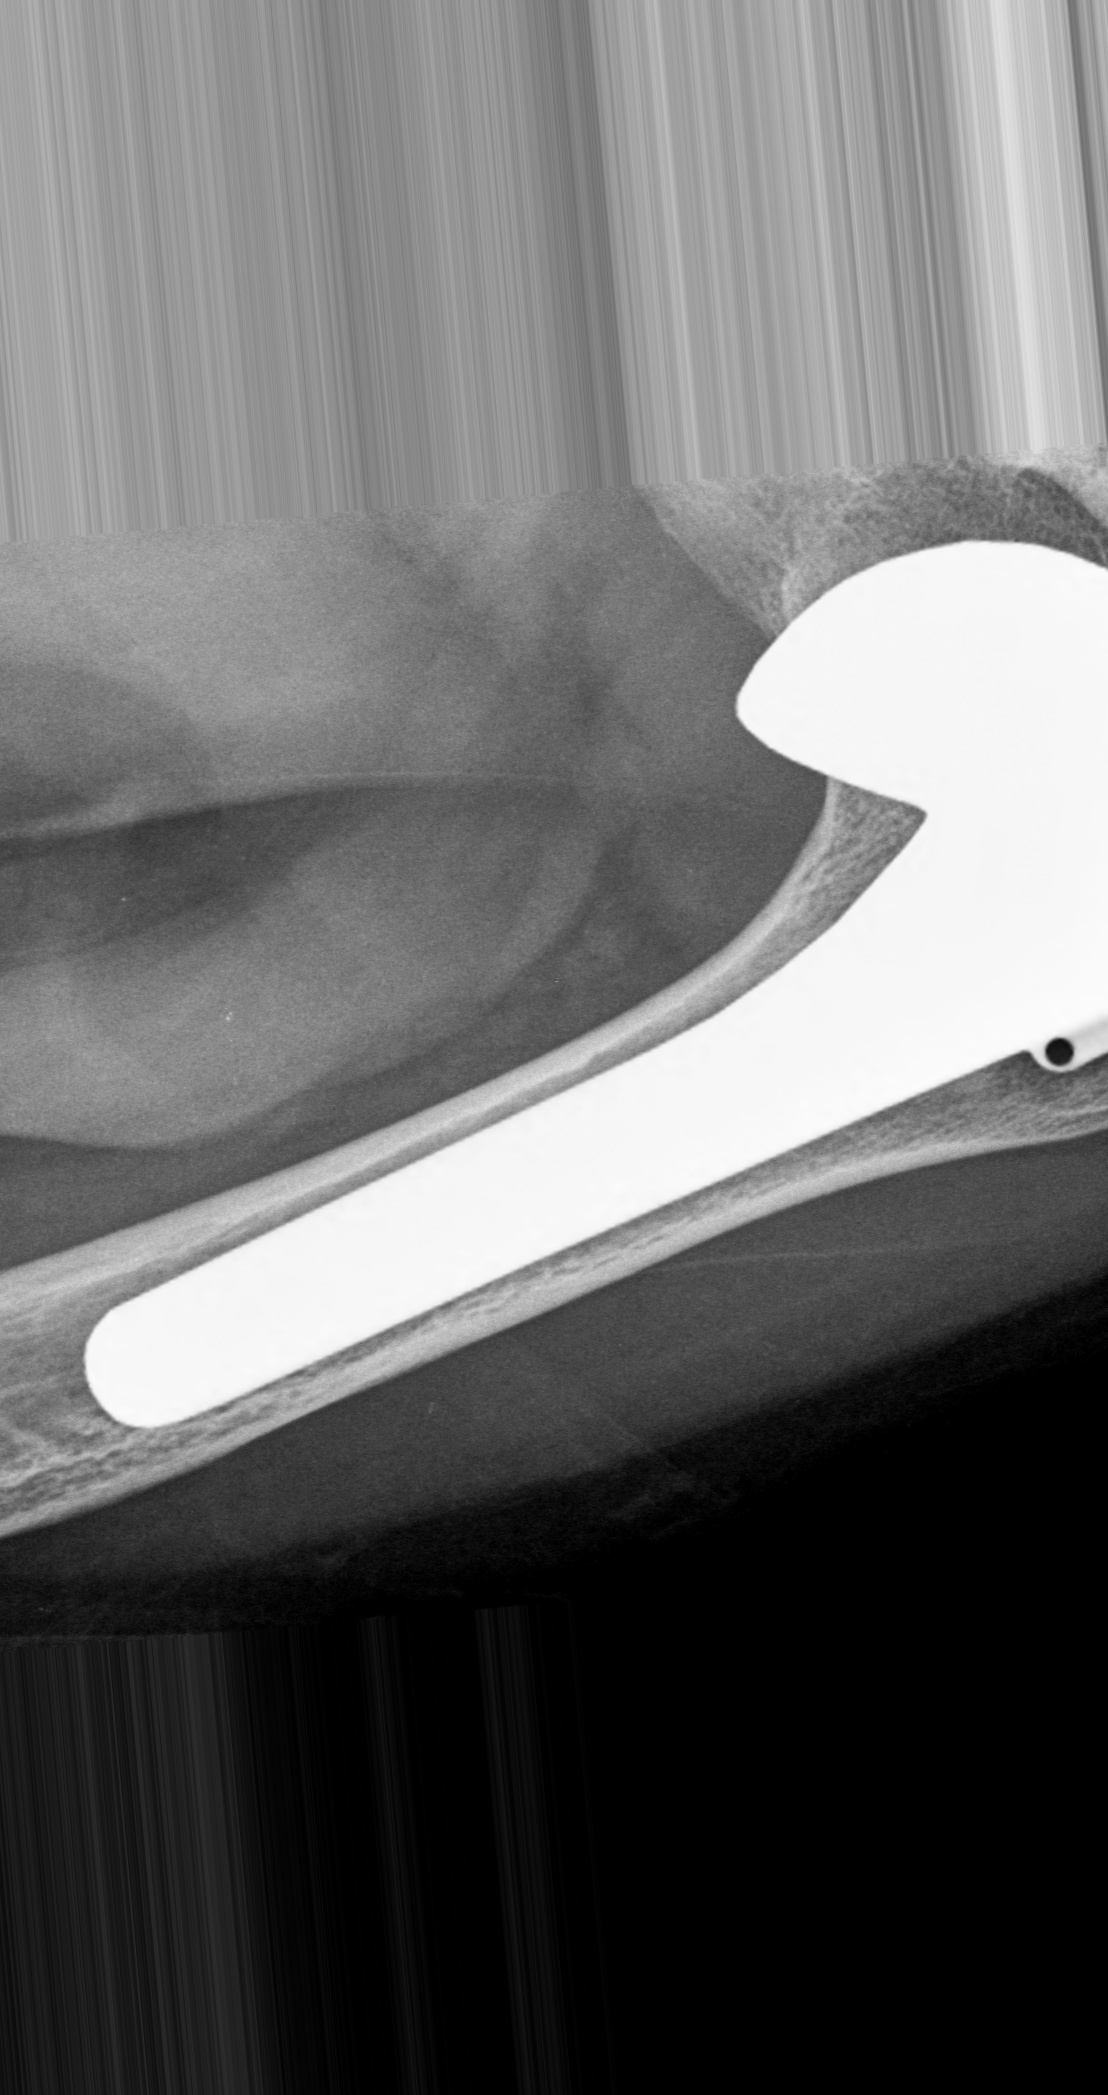Shoulder - AequalisPressfit - Tornier: (711, 522, 1108, 1096)
